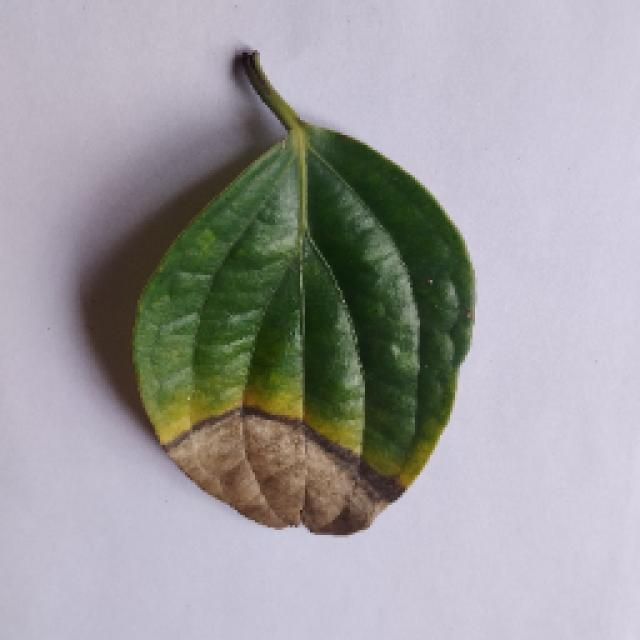footrot: (105, 50, 490, 532)
